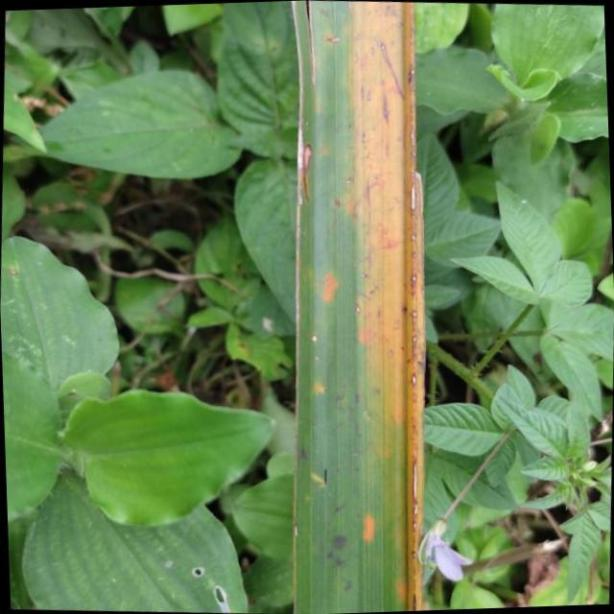Megnesium: (297, 1, 423, 614)
